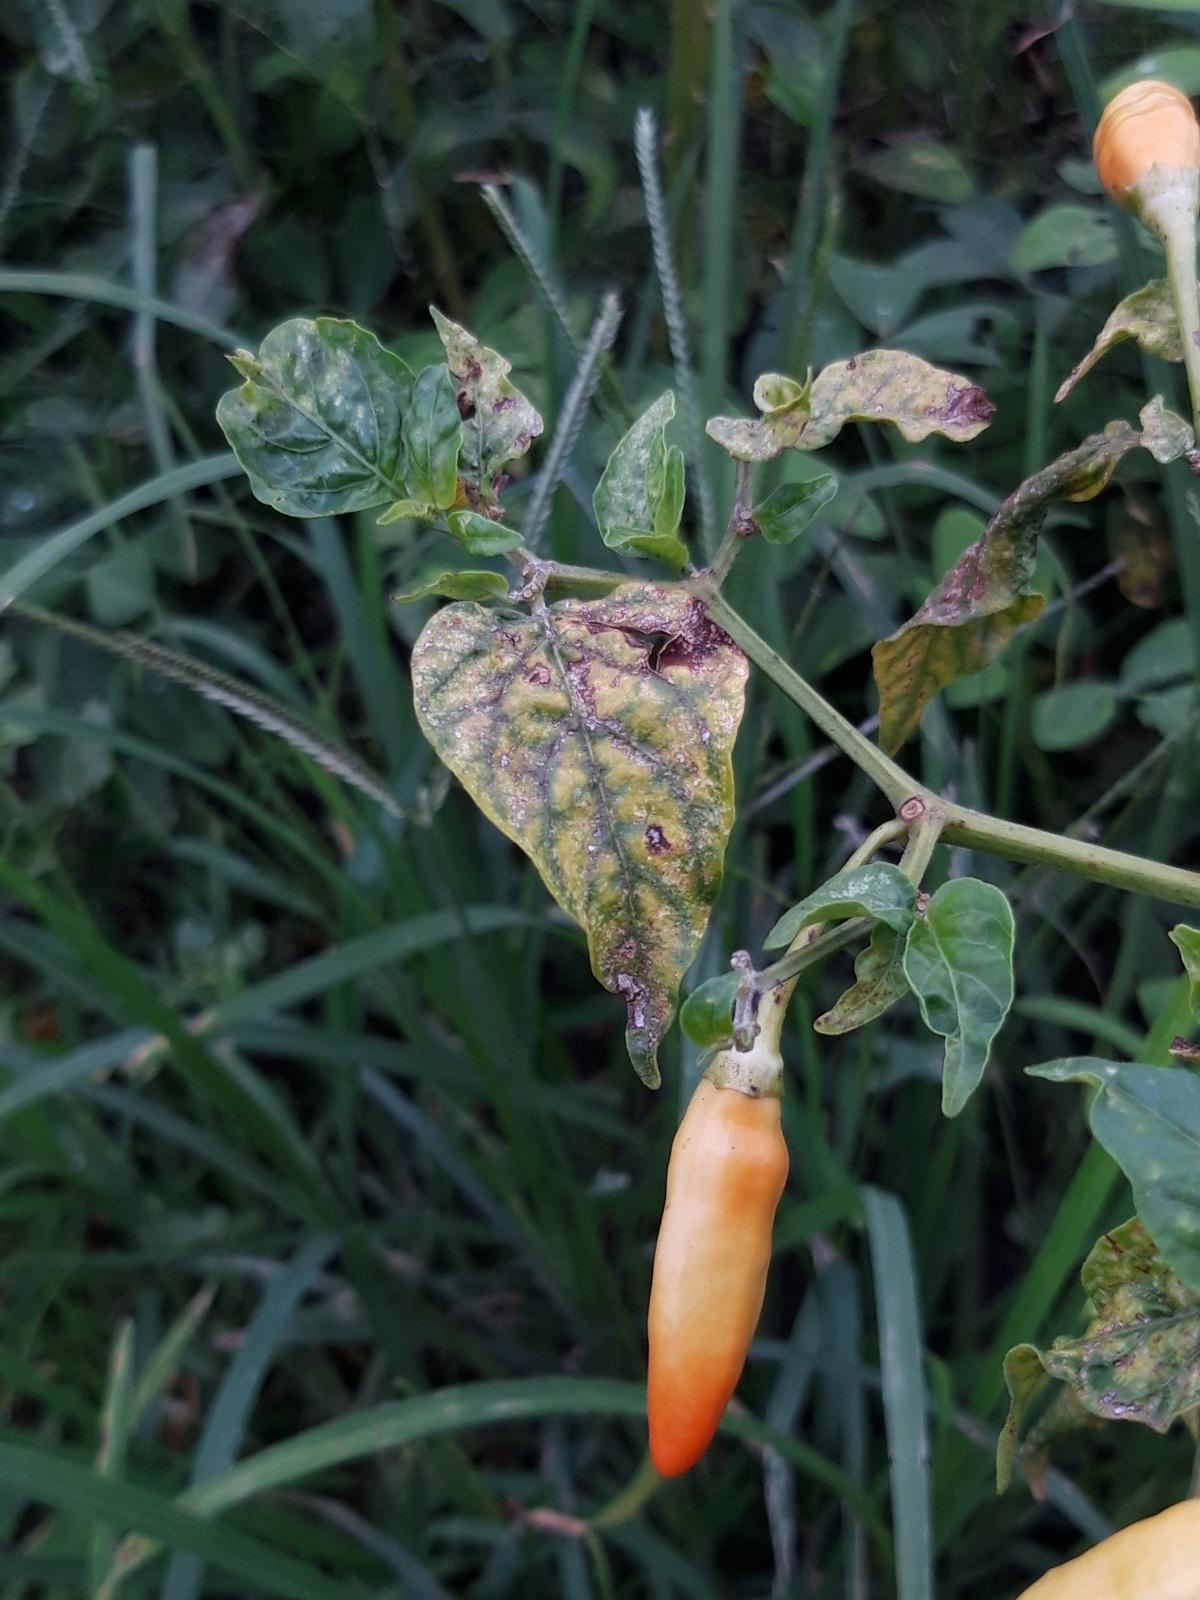cabai_normal: (645, 1078, 790, 1479), (1093, 82, 1200, 189)
